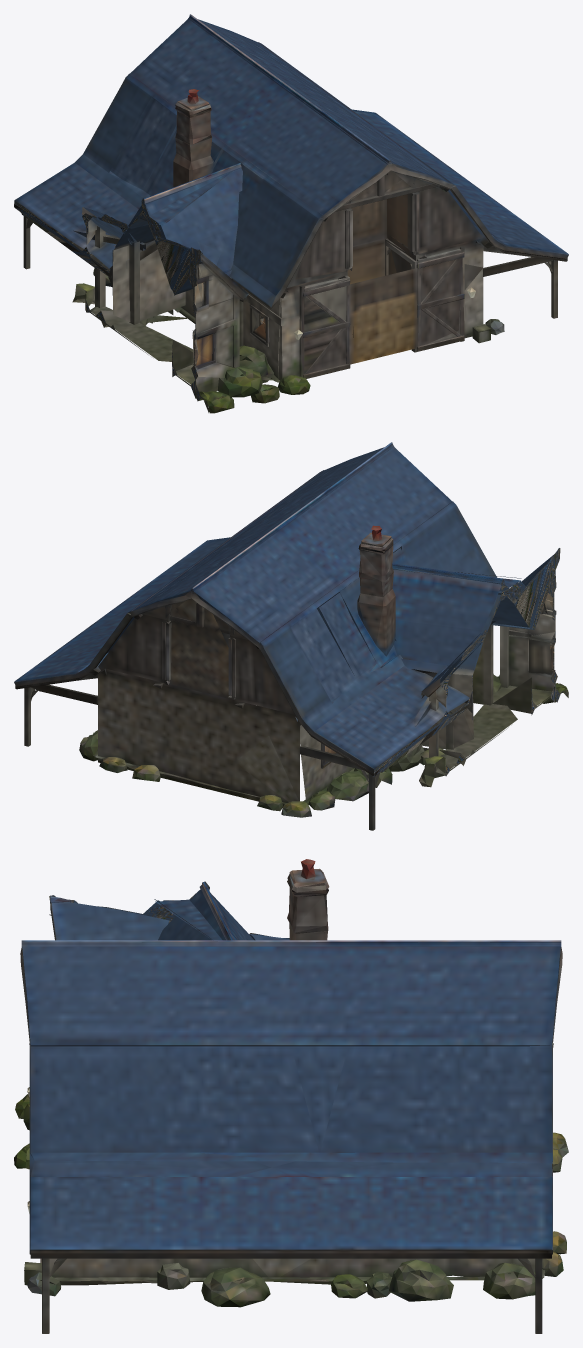
Rendered from bld_barn_stable_tripo_lod2.glb.
3 views of the same model, one above another, from view 1: azimuth 30°, elevation 25°; view 2: azimuth 150°, elevation 25°; view 3: azimuth 270°, elevation 25° (orthographic). The views are drawn at different scales.
Parts seen in each view (by area): view 1: geometry_0; view 2: geometry_0; view 3: geometry_0.
Part boxes in pixels (box(x1,y1,x2,y2)): geometry_0: box(14, 14, 568, 413); geometry_0: box(14, 442, 568, 830); geometry_0: box(14, 859, 568, 1333).
Size of the model in its own units: 23.84 by 14.5 by 23.47.
Materials: 1 (1 with a texture image).
